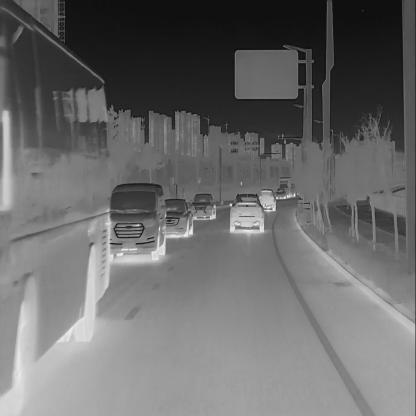bus: (0, 0, 108, 413)
car: (108, 179, 167, 262), (228, 191, 266, 232), (162, 197, 194, 238), (190, 191, 218, 220), (258, 188, 277, 212), (275, 188, 286, 199)
truck: (278, 176, 297, 198)
